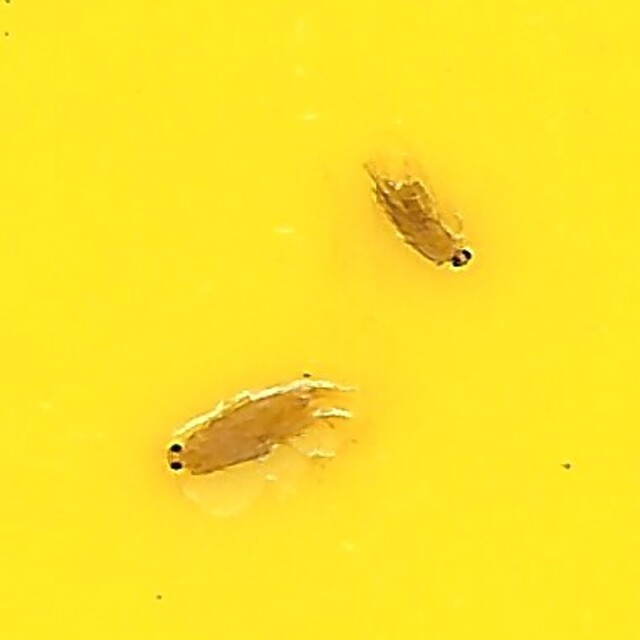Trichoptera: (168, 373, 358, 483), (370, 157, 472, 276)
